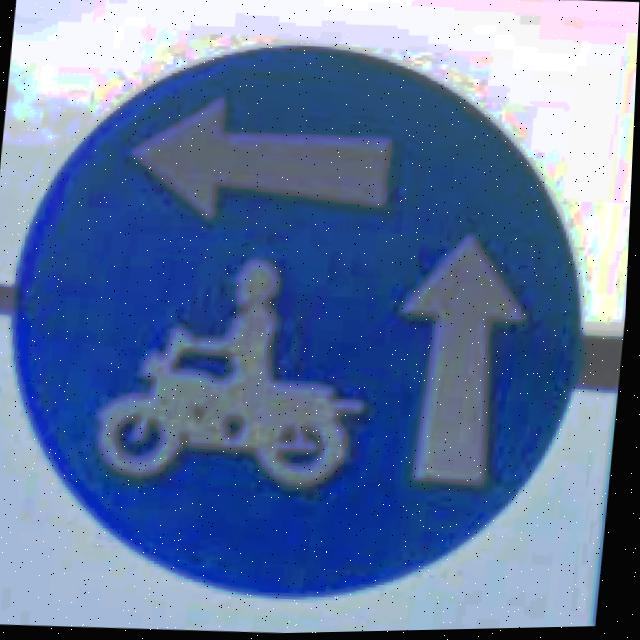twostageturn: (17, 46, 583, 600)
